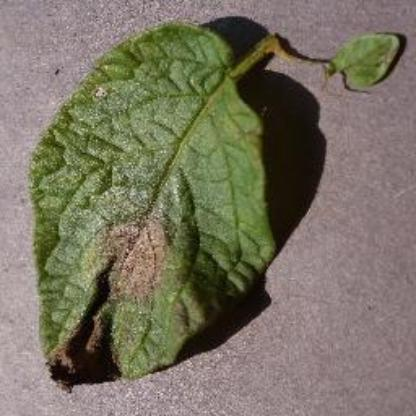Late-Blight: (28, 18, 312, 396)
